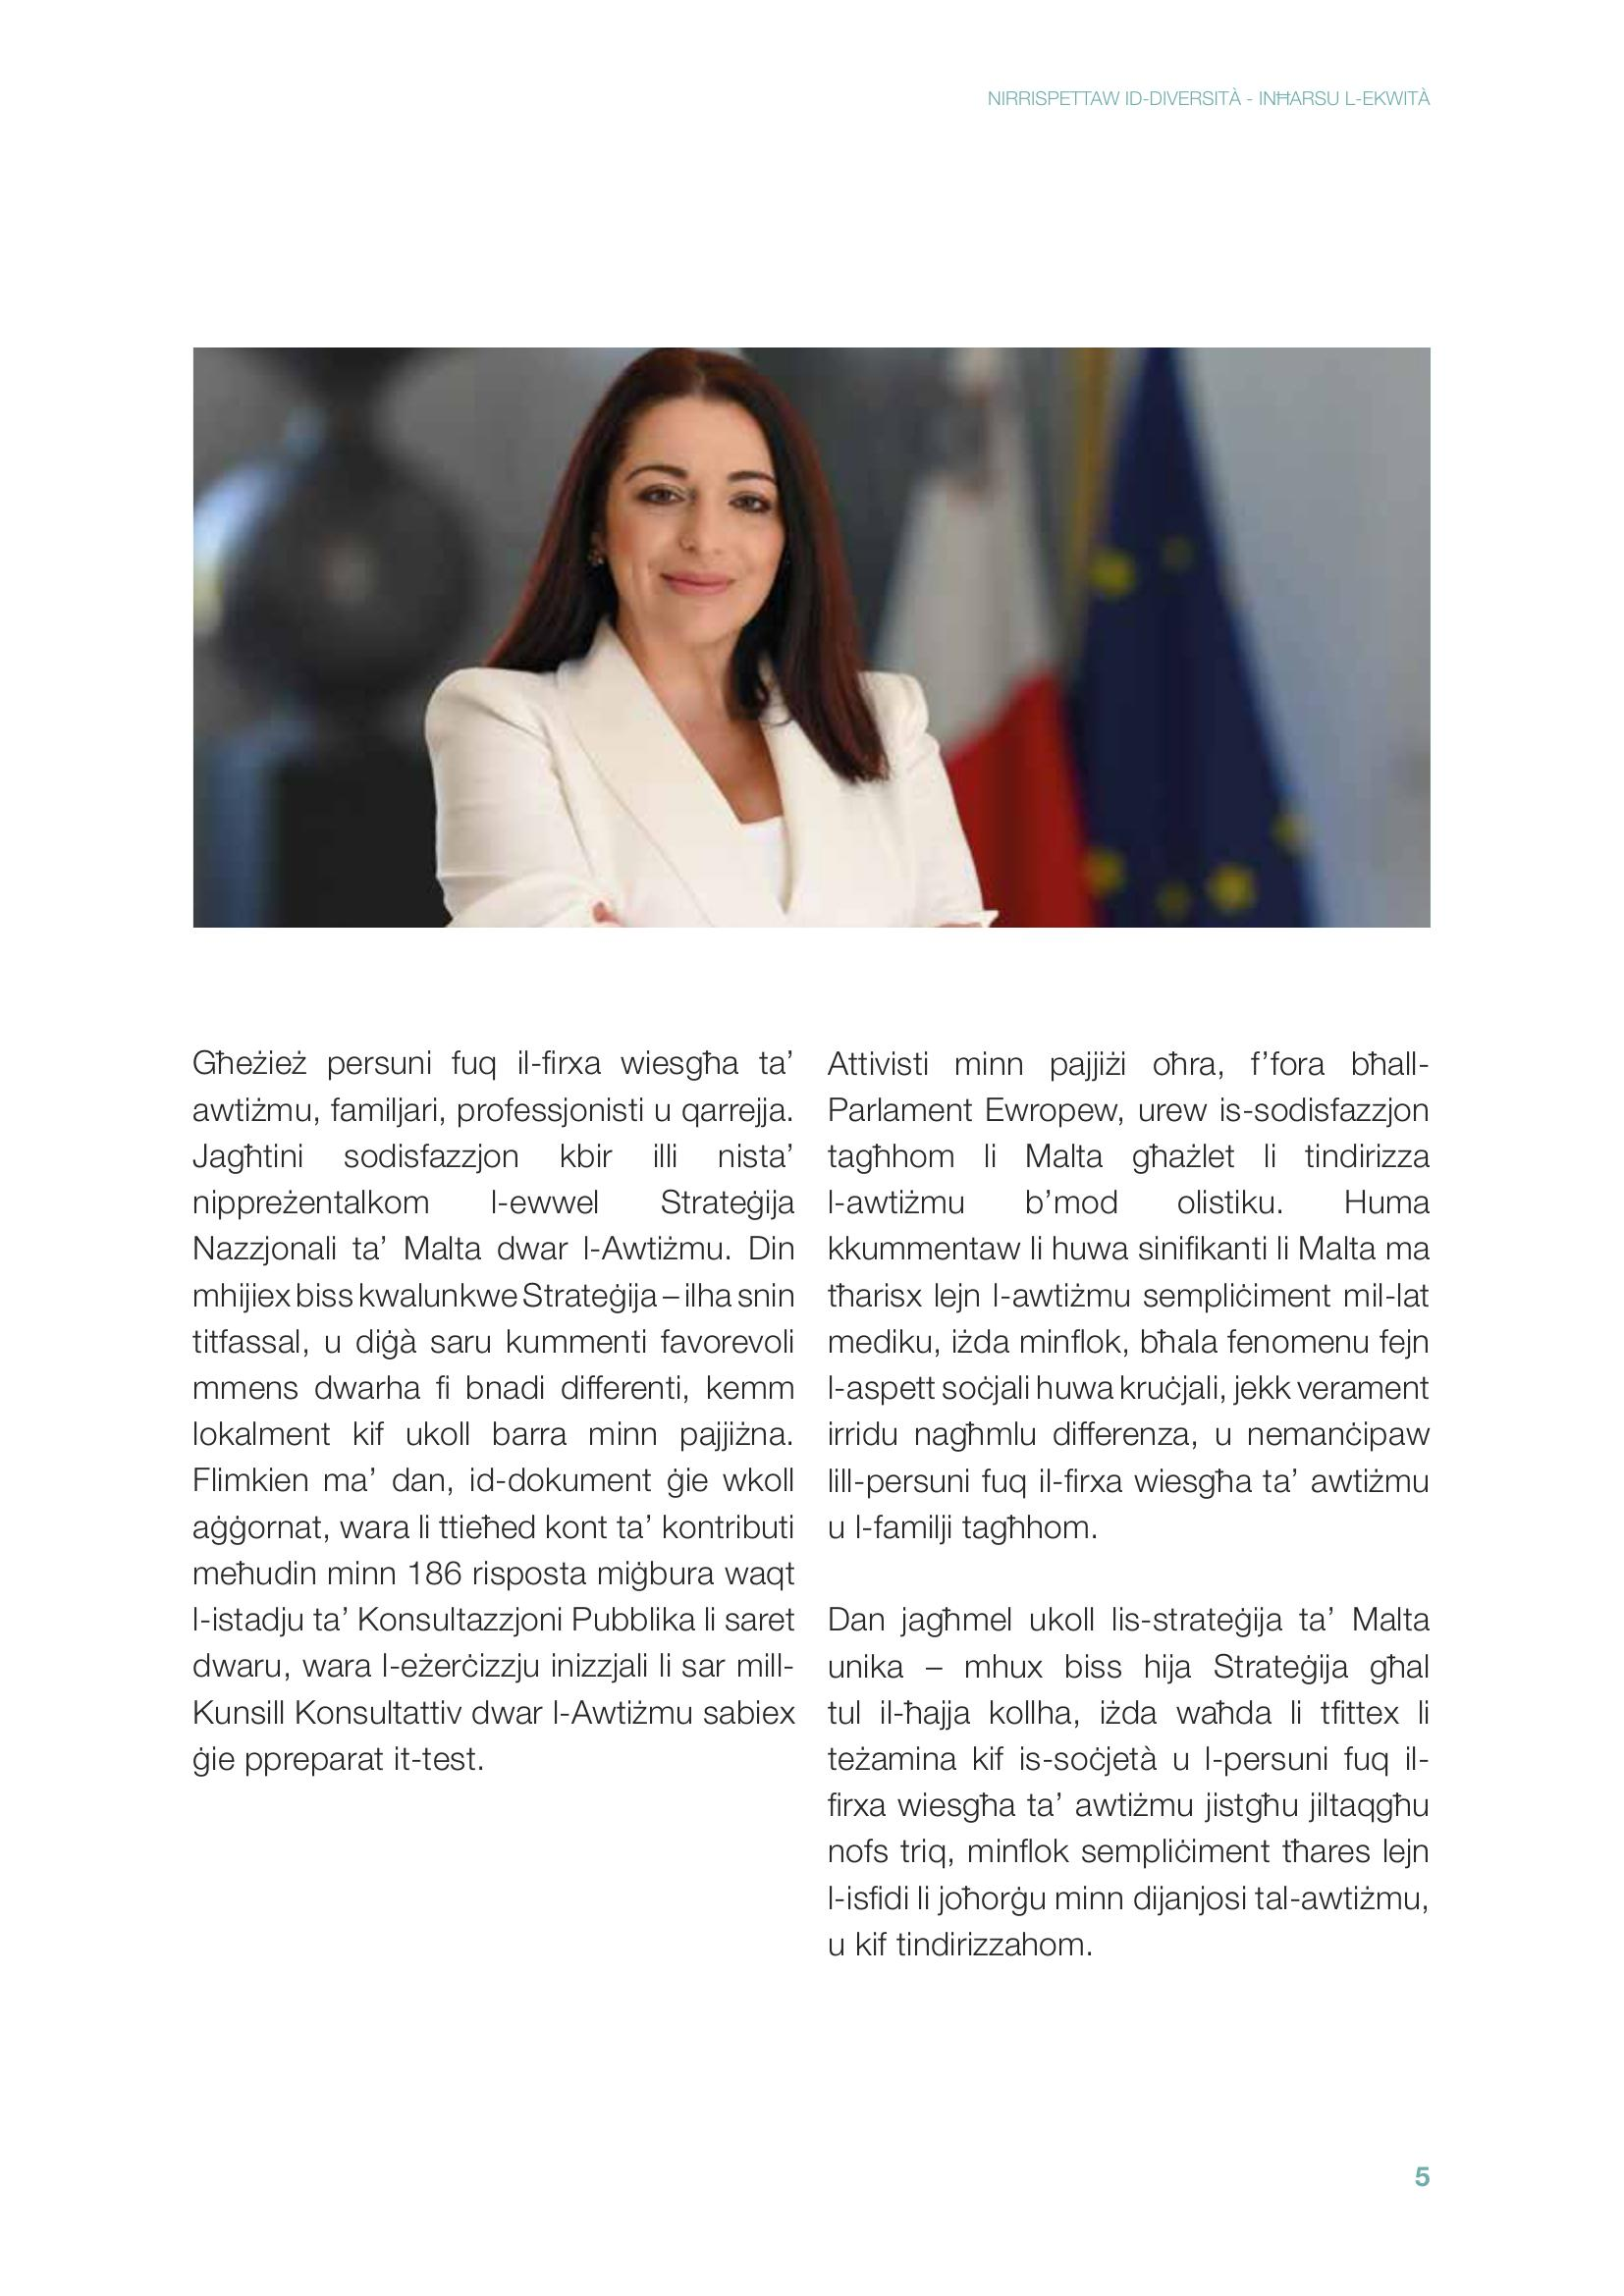text: (810, 1031, 1450, 1980), (179, 1022, 810, 1811)
